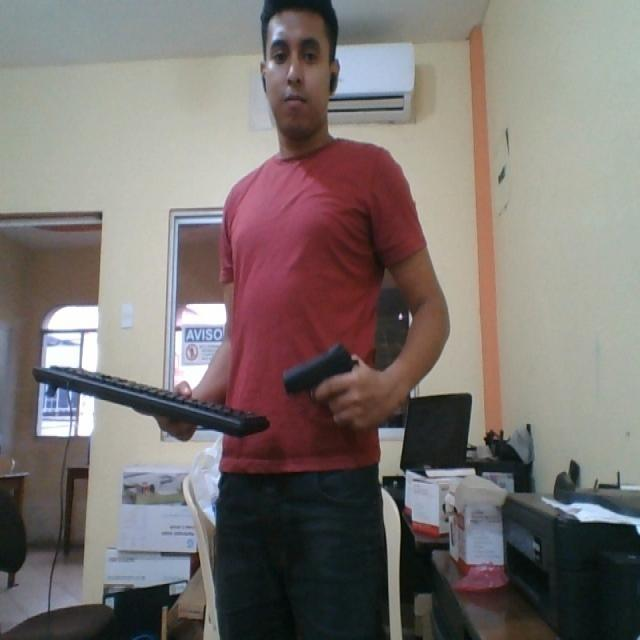weapon: (282, 341, 366, 421)
